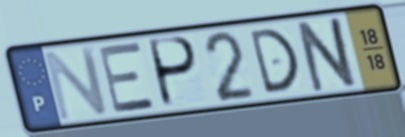2: (202, 28, 258, 105)
D: (246, 25, 302, 97)
E: (95, 39, 160, 116)
N: (41, 43, 112, 123), (294, 13, 362, 95)
P: (148, 34, 201, 110)
